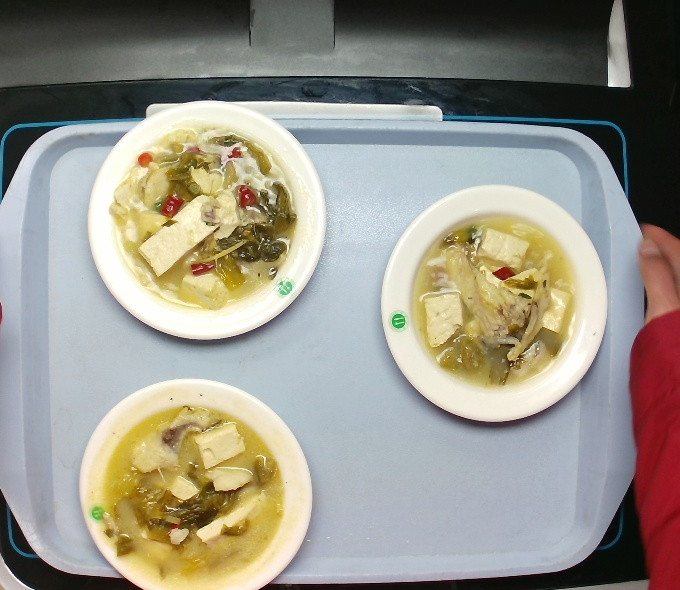wcq-SuanCaiDouFuYu: (83, 385, 295, 589), (402, 208, 589, 394), (109, 130, 300, 305)
